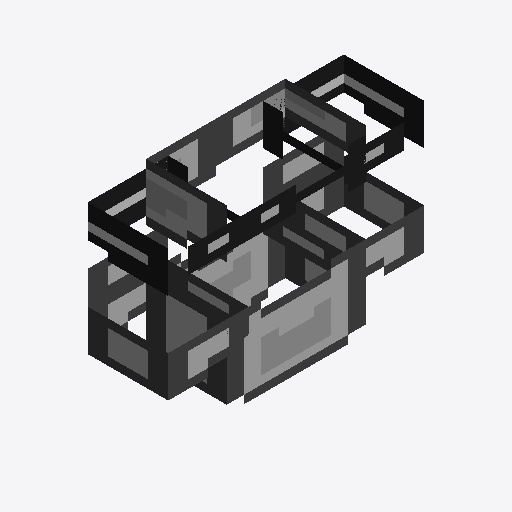
A Minecraft block model of 3 cuboids, rendered isometrically (azimuth 45°, elevation 35.3°) with the resource pack's own textures.
Parts seen in each view (by area): body, left_arm, right_arm.
Part boxes in pixels (bbox=[...]): body: bbox=[146, 79, 365, 404]; left_arm: bbox=[88, 156, 248, 399]; right_arm: bbox=[263, 55, 423, 276].
Size of the model in its own units: 17.5 by 13.5 by 5.5.